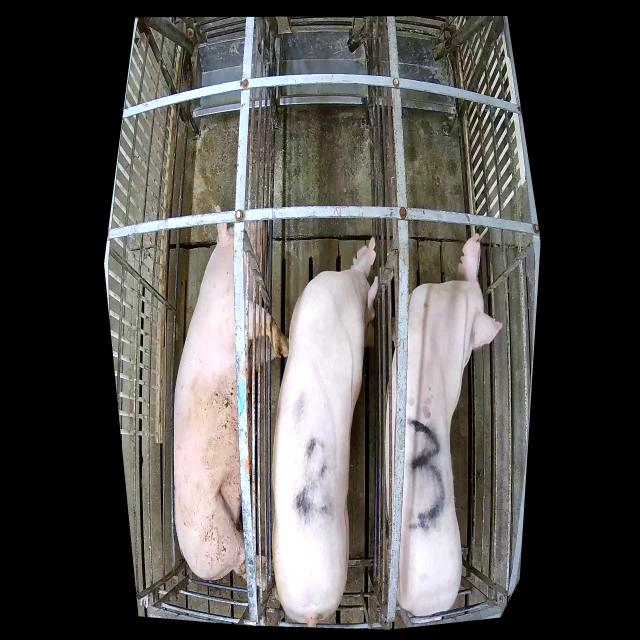pig: (386, 236, 503, 617), (174, 206, 288, 592), (272, 235, 378, 626)
